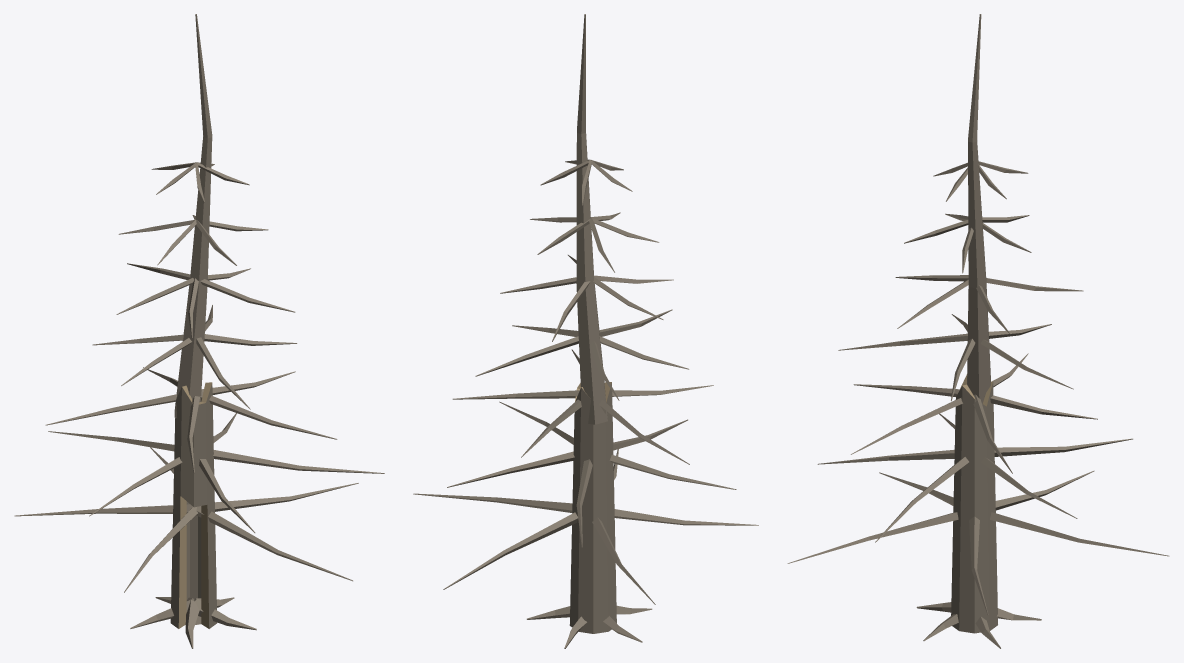
Rendered from hemlock-dead.glb.
The picture shows the model from 3 angles, left to right: view 1: azimuth 30°, elevation 25°; view 2: azimuth 150°, elevation 25°; view 3: azimuth 270°, elevation 25°; orthographic projection.
Visible parts, largest first — view 1: tree_hemlock-dead_LOD0; view 2: tree_hemlock-dead_LOD0; view 3: tree_hemlock-dead_LOD0.
Part boxes in pixels (x1,y1,x2,y2): tree_hemlock-dead_LOD0: (14, 14, 384, 648); tree_hemlock-dead_LOD0: (413, 14, 758, 648); tree_hemlock-dead_LOD0: (787, 14, 1169, 648).
Size of the model in its own units: 6.89 by 13.5 by 7.64.
